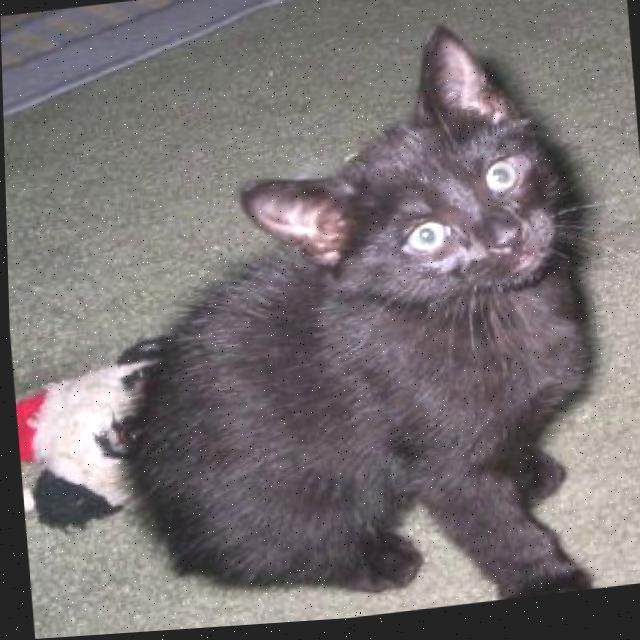Bombay: (89, 14, 614, 635)
